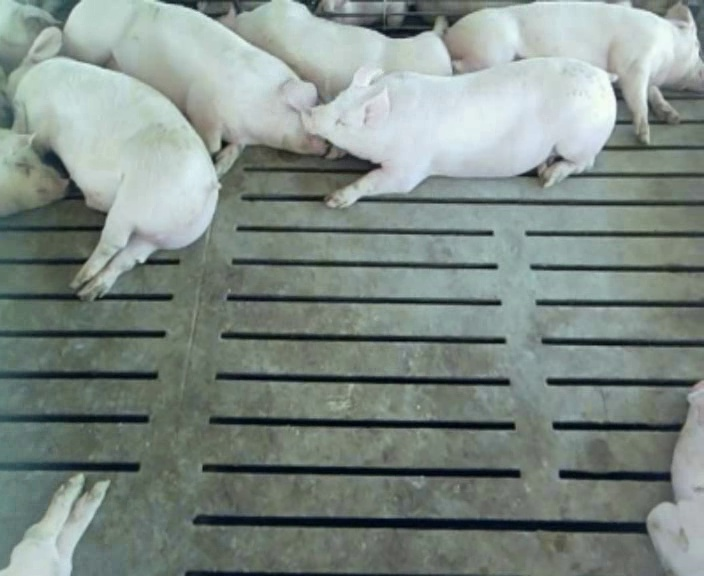pig: (0, 26, 219, 299), (303, 58, 615, 207), (64, 2, 324, 176), (444, 2, 703, 143), (215, 2, 451, 101), (0, 473, 109, 574), (647, 381, 703, 574), (0, 2, 59, 72)
